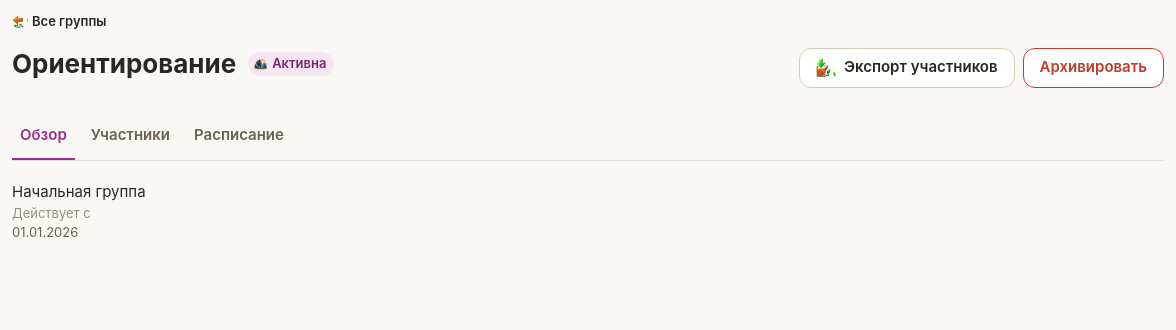
Test: GroupDetailPage — membership actions (Issue #286) › offers Administrator move/remove on the active membership only
Click the tab "Участники" at x=130, y=136, box left=83, top=112, right=178, bottom=160
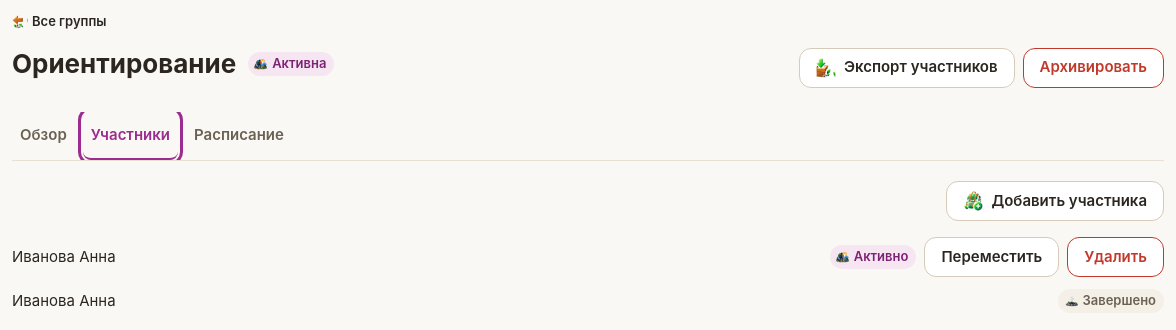
expect the number of buttons "Переместить" is 1: met, box left=924, top=237, right=1059, bottom=277
expect the number of buttons "Удалить" is 1: met, box left=1067, top=237, right=1164, bottom=277
